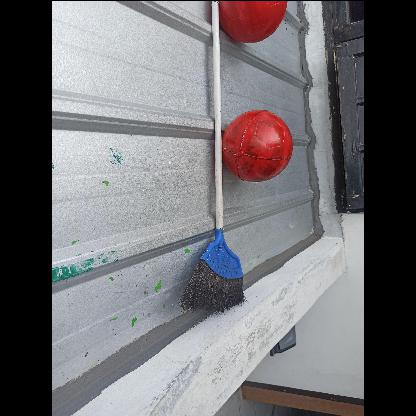red_ball: (223, 109, 295, 181)
